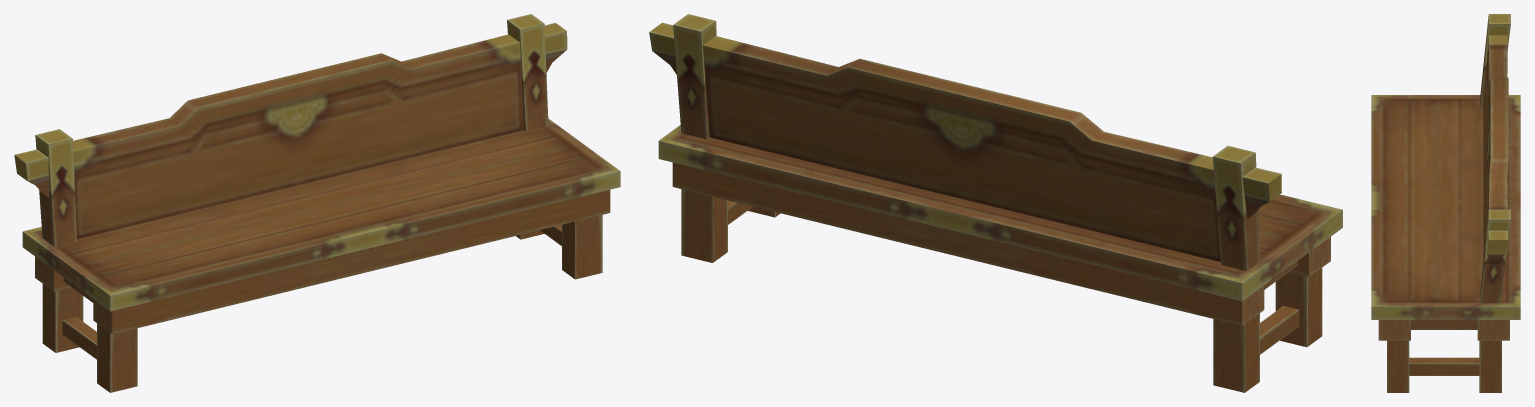
The model's file is mt_dj_chair_02.fbx.
3 renders of one model, left to right at view 1: azimuth 30°, elevation 25°; view 2: azimuth 150°, elevation 25°; view 3: azimuth 270°, elevation 25°, orthographic. The views are drawn at different scales.
Visible parts, largest first — view 1: mt_dj_chair_02; view 2: mt_dj_chair_02; view 3: mt_dj_chair_02.
Boxes of the visible parts, bbox=[...] form: mt_dj_chair_02: bbox=[14, 14, 620, 392]; mt_dj_chair_02: bbox=[649, 14, 1342, 392]; mt_dj_chair_02: bbox=[1371, 14, 1520, 392].
Size of the model in its own units: 291 by 105 by 81.7.
